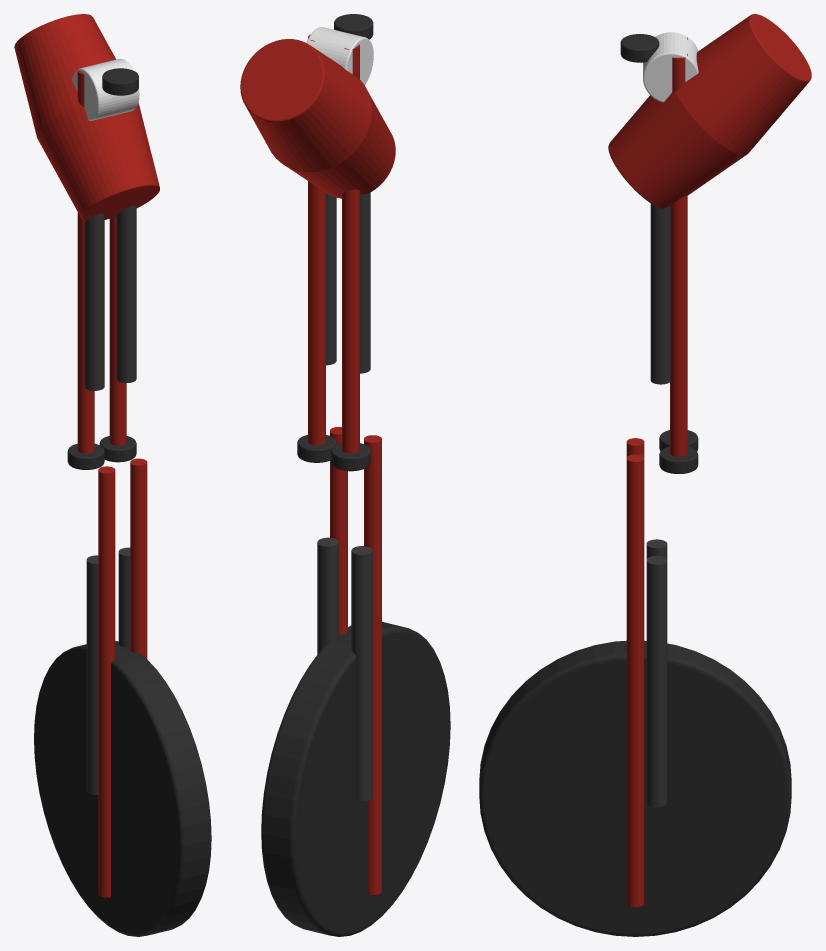
Rendered from Anglepoise_task_lamp.glb.
The picture shows the model from 3 angles, left to right: view 1: azimuth 30°, elevation 25°; view 2: azimuth 150°, elevation 25°; view 3: azimuth 270°, elevation 25°; orthographic projection. The views are drawn at different scales.
Visible parts, largest first — view 1: base, shade, arm.lower_1, spring.upper_1, spring.upper_2, arm.lower_2, spring.lower_1, arm.upper_1, arm.upper_2, shade.holder, spring.lower_2, pivot.shade (+2 smaller); view 2: base, shade, arm.lower_1, arm.upper_1, spring.lower_1, arm.upper_2, arm.lower_2, spring.lower_2, spring.upper_1, shade.holder, spring.upper_2, pivot.elbow_1 (+2 smaller); view 3: base, shade, arm.lower_2, spring.lower_2, arm.upper_2, spring.upper_2, shade.holder, pivot.shade, pivot.elbow_2.
Part boxes in pixels (x1,y1,x2,y2): base: (34, 641, 211, 936); shade: (14, 14, 159, 221); arm.lower_1: (98, 466, 115, 897); spring.upper_1: (84, 213, 104, 390); spring.upper_2: (116, 205, 136, 382); arm.lower_2: (130, 458, 147, 658); spring.lower_1: (86, 555, 98, 794); arm.upper_1: (77, 70, 94, 453); arm.upper_2: (109, 60, 126, 445); shade.holder: (72, 58, 139, 120); spring.lower_2: (118, 547, 130, 646); pivot.shade: (102, 68, 138, 95); base: (261, 621, 450, 936); shade: (240, 39, 395, 198); arm.lower_1: (364, 435, 381, 894); arm.upper_1: (342, 44, 359, 453); spring.lower_1: (351, 546, 372, 801); arm.upper_2: (308, 34, 325, 445); arm.lower_2: (330, 427, 347, 634); spring.lower_2: (317, 537, 338, 654); spring.upper_1: (360, 192, 370, 373); shade.holder: (306, 27, 373, 85); spring.upper_2: (326, 193, 336, 365); pivot.elbow_1: (331, 443, 370, 471); base: (479, 640, 791, 936); shade: (608, 14, 811, 208); arm.lower_2: (626, 454, 644, 907); spring.lower_2: (646, 555, 667, 807); arm.upper_2: (670, 54, 687, 456); spring.upper_2: (650, 203, 670, 384); shade.holder: (643, 32, 698, 102); pivot.shade: (620, 34, 659, 62); pivot.elbow_2: (659, 446, 698, 473).
Bounding box in the file's own units: 0.0763 × 0.675 × 0.2234.
